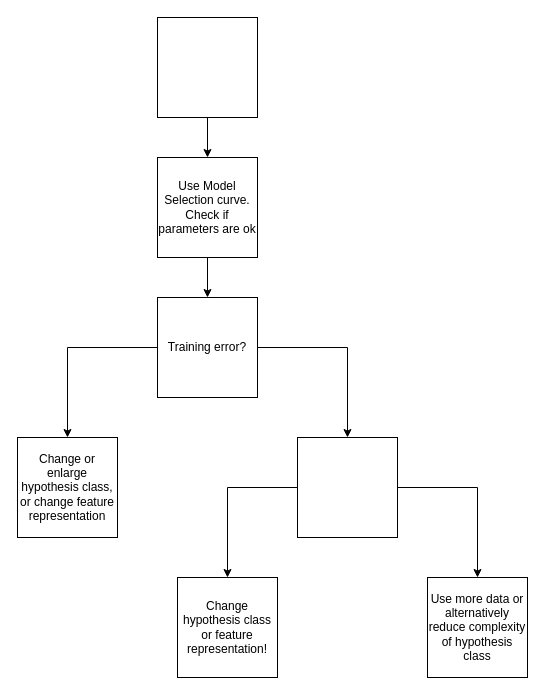
Some shapes in this 545 by 695 pixel diagram are drawn without their labels. Here are the shapes that lost their labels. From the top down, the box of each, then its label:
(156, 16, 258, 118): Learning does not work
(296, 436, 398, 538): Plot learning curve! Check approximation error
